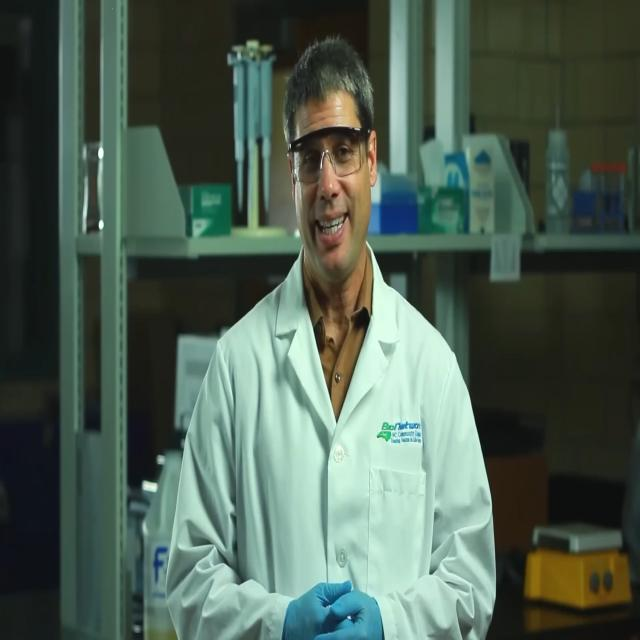googles: (285, 122, 379, 186)
labcoat: (164, 233, 501, 640)
